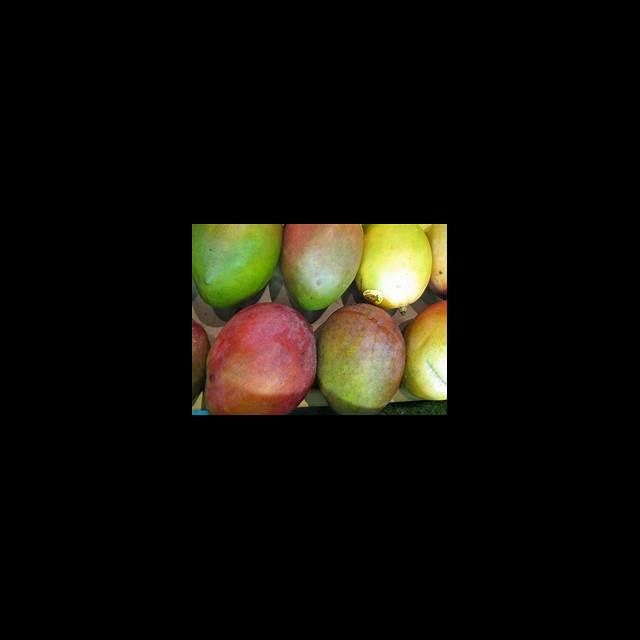mango: (319, 305, 405, 409), (192, 225, 281, 308), (282, 224, 364, 311), (356, 225, 433, 309)
